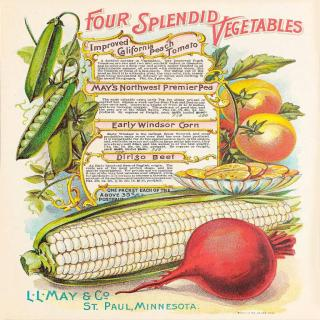tomato: (221, 76, 280, 124), (232, 115, 293, 161)
